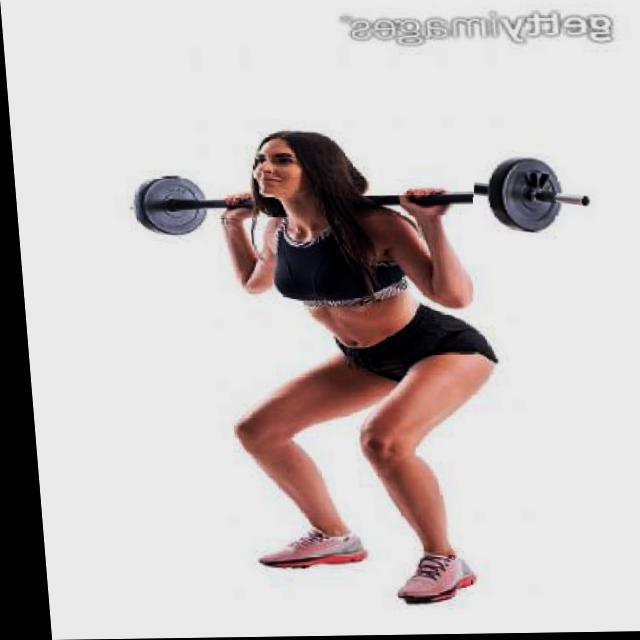barbell: (464, 141, 612, 260)
